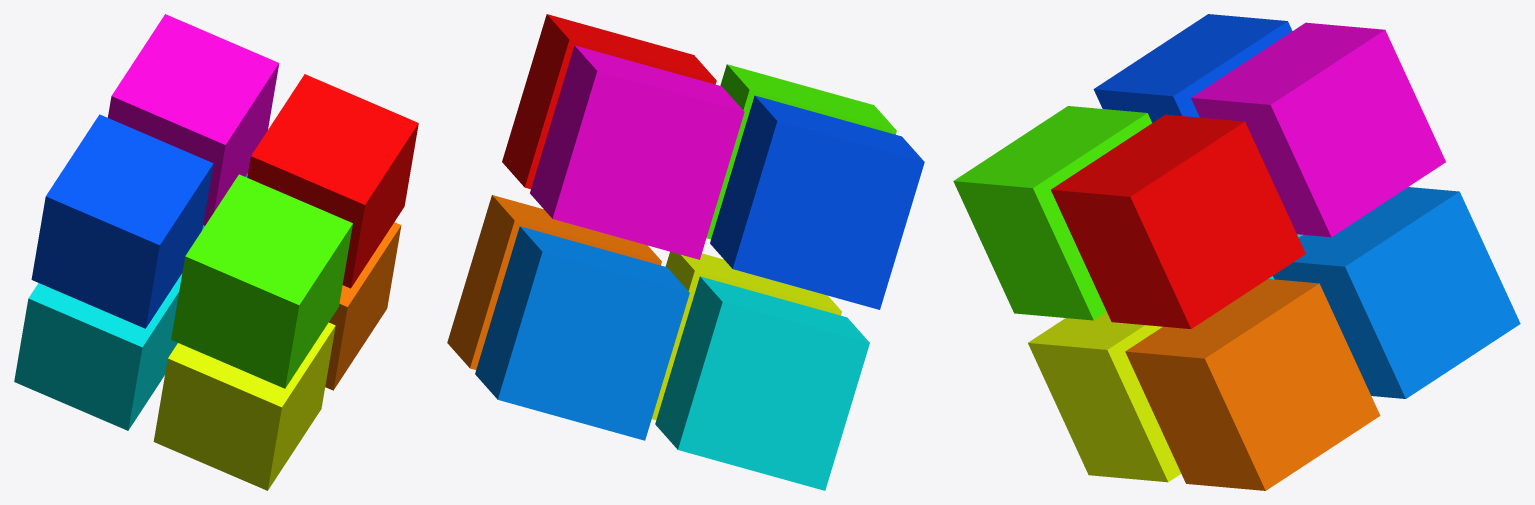
Rendered from laptop.glb.
3 renders of one model, left to right at view 1: azimuth 30°, elevation 25°; view 2: azimuth 150°, elevation 25°; view 3: azimuth 270°, elevation 25°, orthographic. The views are drawn at different scales.
Visible parts, largest first — view 1: 立方體.013, 立方體.016, 立方體.005, 立方體.008, 立方體.011, 立方體.015, 立方體.006; view 2: 立方體.002, 立方體.016, 立方體.015, 立方體.008, 立方體.005, 立方體.006, 立方體.013, 立方體.011; view 3: 立方體.005, 立方體.006, 立方體.008, 立方體.002, 立方體.013, 立方體.011, 立方體.016.
Boxes of the visible parts, x1=… form: 立方體.013: x1=171, y1=174, x2=352, y2=388; 立方體.016: x1=31, y1=114, x2=213, y2=328; 立方體.005: x1=247, y1=74, x2=418, y2=288; 立方體.008: x1=107, y1=14, x2=279, y2=225; 立方體.011: x1=153, y1=322, x2=335, y2=490; 立方體.015: x1=14, y1=273, x2=182, y2=430; 立方體.006: x1=325, y1=222, x2=401, y2=390; 立方體.002: x1=475, y1=226, x2=689, y2=440; 立方體.016: x1=710, y1=95, x2=924, y2=309; 立方體.015: x1=655, y1=276, x2=869, y2=490; 立方體.008: x1=530, y1=45, x2=744, y2=259; 立方體.005: x1=502, y1=14, x2=716, y2=189; 立方體.006: x1=447, y1=195, x2=661, y2=369; 立方體.013: x1=706, y1=64, x2=896, y2=239; 立方體.011: x1=652, y1=251, x2=841, y2=419; 立方體.005: x1=1051, y1=114, x2=1305, y2=328; 立方體.006: x1=1125, y1=279, x2=1380, y2=490; 立方體.008: x1=1191, y1=22, x2=1445, y2=237; 立方體.002: x1=1273, y1=187, x2=1520, y2=398; 立方體.013: x1=953, y1=106, x2=1151, y2=320; 立方體.011: x1=1028, y1=312, x2=1181, y2=482; 立方體.016: x1=1093, y1=14, x2=1292, y2=122.
Size of the model in its own units: 0.2992 by 0.2983 by 0.3351.
